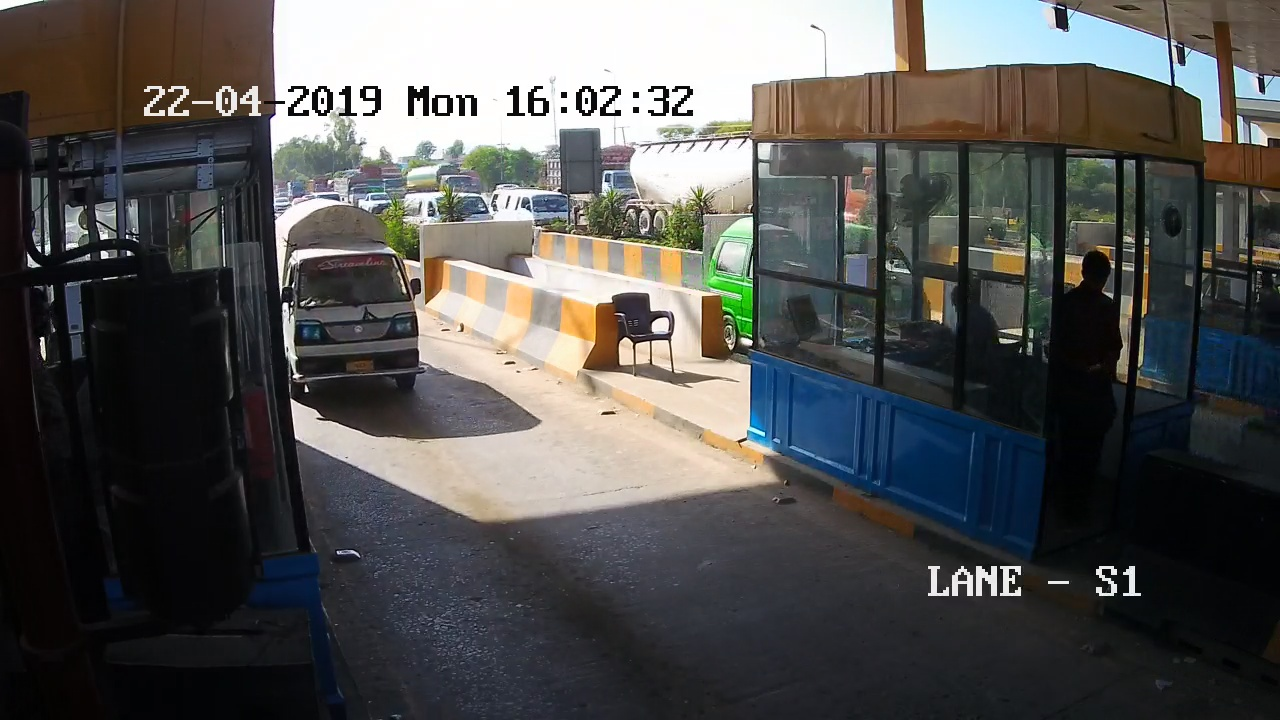car: (275, 202, 432, 428)
